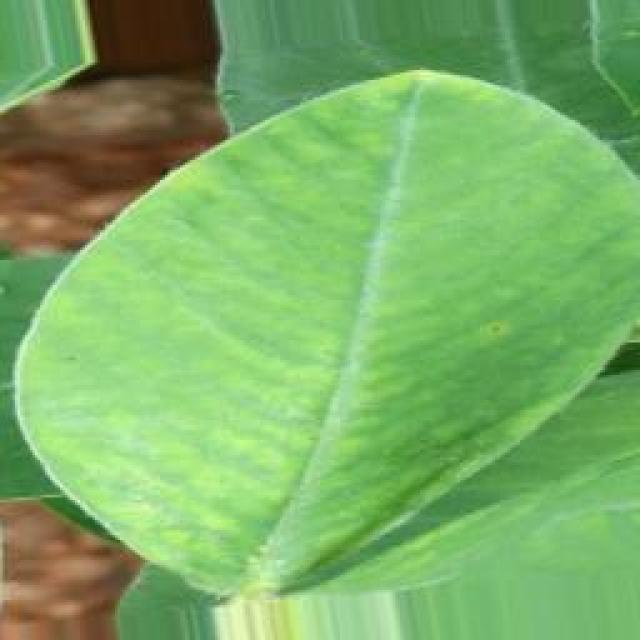Sigatoka: (447, 290, 512, 361)
